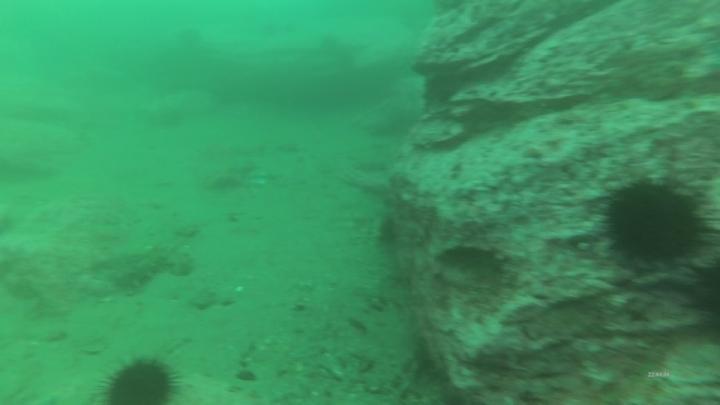echinus: (598, 177, 709, 275), (99, 356, 182, 405), (375, 216, 400, 247)
holothurian: (119, 247, 196, 297)
